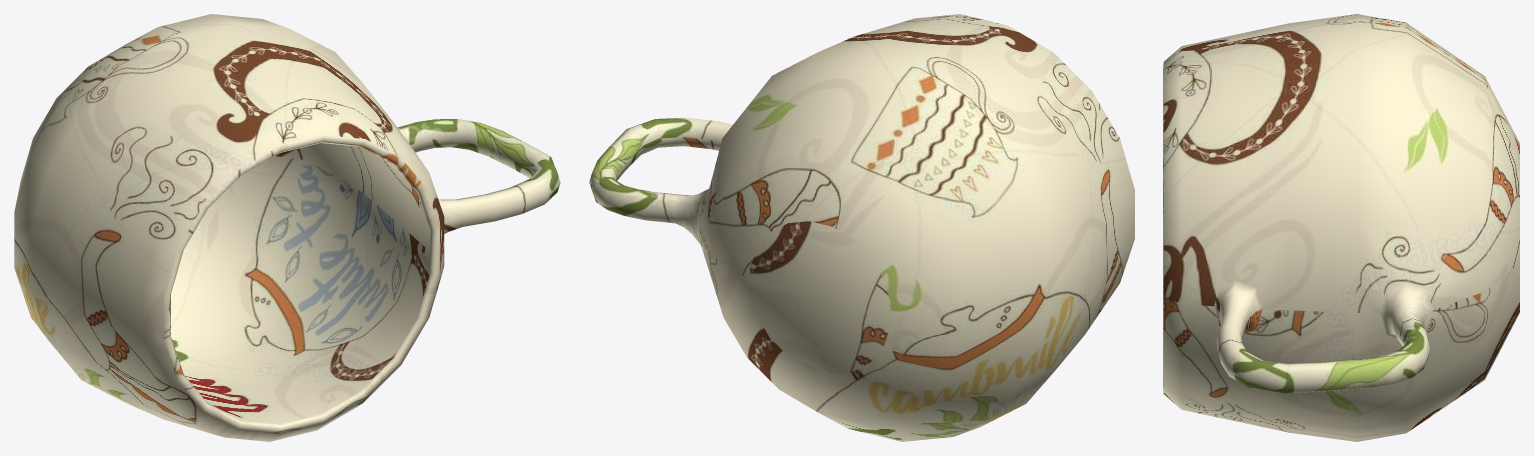
3 renders of one model, left to right at view 1: azimuth 30°, elevation 25°; view 2: azimuth 150°, elevation 25°; view 3: azimuth 270°, elevation 25°, orthographic. The views are drawn at different scales.
Bounding box in the file's own units: 1 × 0.7276 × 0.6133.
